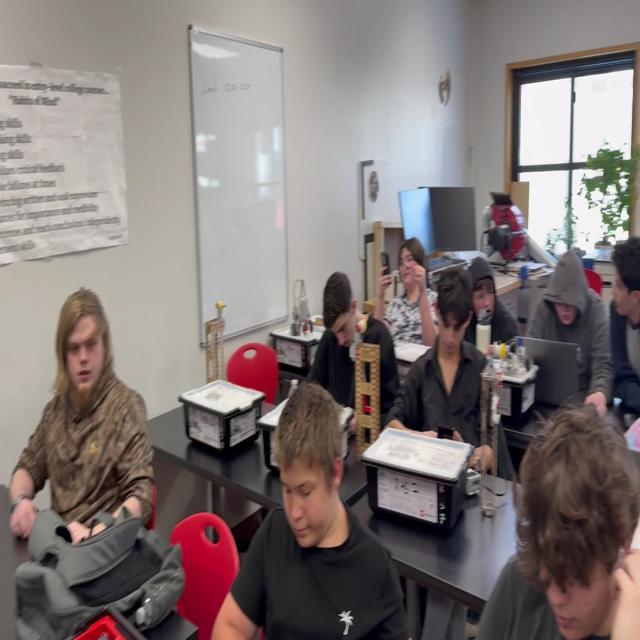pen: (436, 426, 453, 456), (380, 251, 391, 285)
